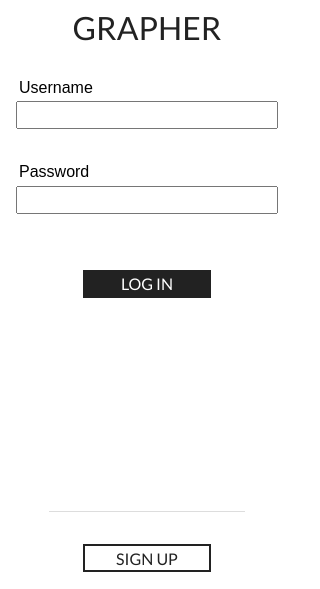
Scenario: Home › should switch to sign up when button is clicked
This screenshot has width=320, height=589.
Click the button "Sign Up". click: [147, 558]
box: [83, 544, 211, 572]
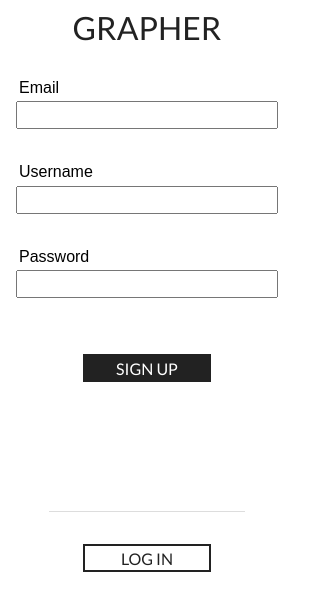
Check: the form is shown, box [16, 79, 278, 382]
